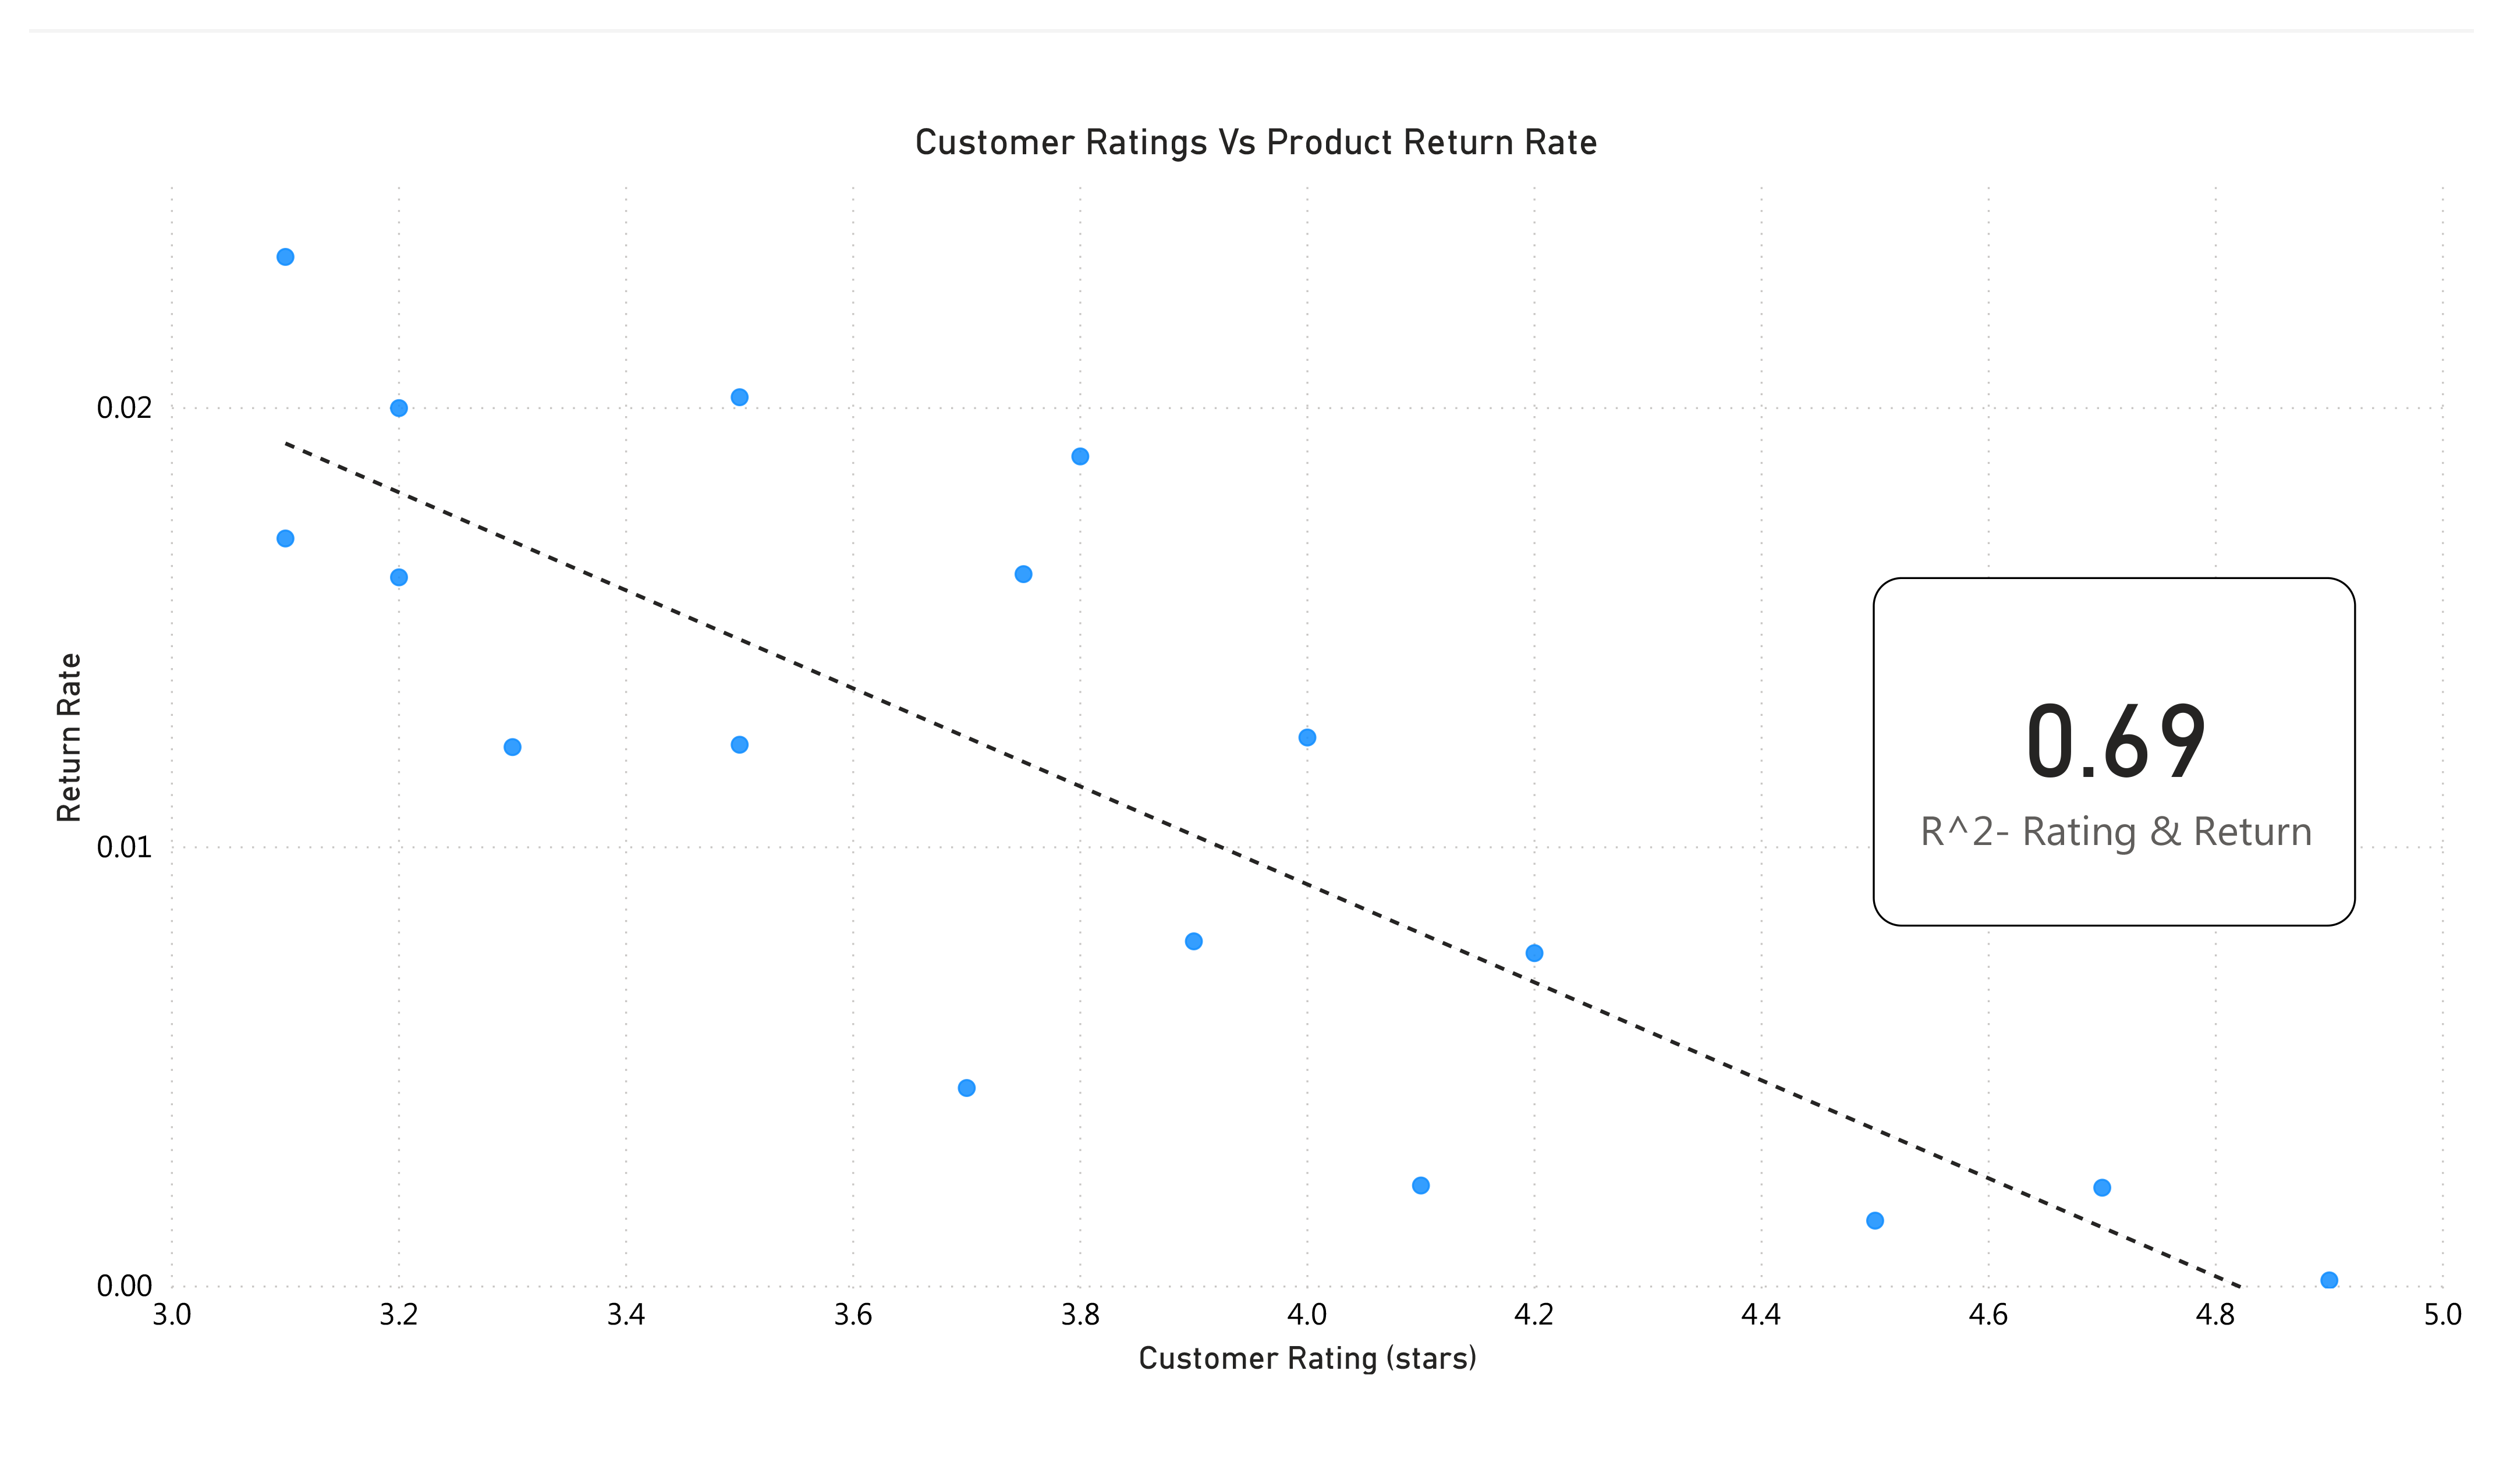

Layout of this report page (visuals, bound fields, positions):
{"tool":"powerbi","page":{"name":"Customer Ratings Vs Product Return Rate","canvas":[1280,720],"ordinal":2},"visuals":[{"type":"scatterChart","title":"Customer Ratings Vs Product Return Rate","fields":{"X":["Product Inventory.Customer Rating (stars)"],"Y":["Product Inventory.Return Rate"]},"box":[5.8,33.2,1274.1,662.3],"z":0},{"type":"card","fields":{"Values":["Product Inventory.R^2- Rating & Return"]},"box":[965.3,272.7,252.5,183.2],"z":1000}]}

Visuals, with their boxes on the page's 1280x720 design canvas (x1, y1, x2, y2). These are canvas units, not pixel positions in the 2503x1484 screenshot, which may show the page scaled, cropped or inside an application window:
"Customer Ratings Vs Product Return Rate" scatterChart: <bbox>6, 33, 1280, 696</bbox>
card - Product Inventory.R^2- Rating & Return: <bbox>965, 273, 1218, 456</bbox>
